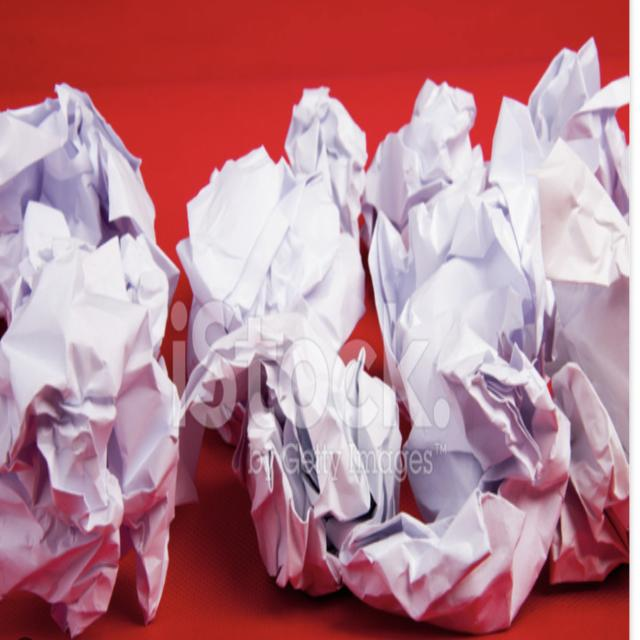biodegradable: (3, 106, 180, 609), (368, 82, 530, 485), (176, 90, 365, 409)
